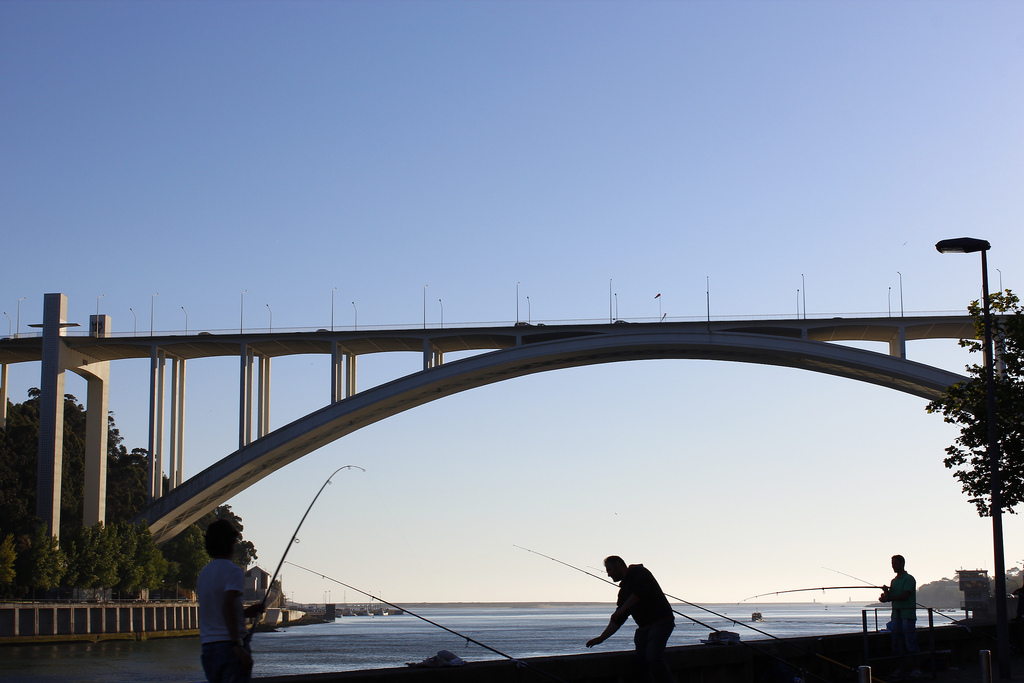arrabida: (0, 291, 1023, 557)
